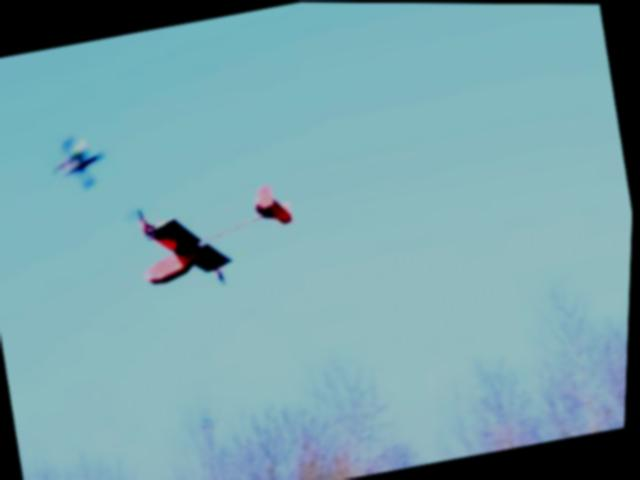uav: (116, 163, 315, 305)
